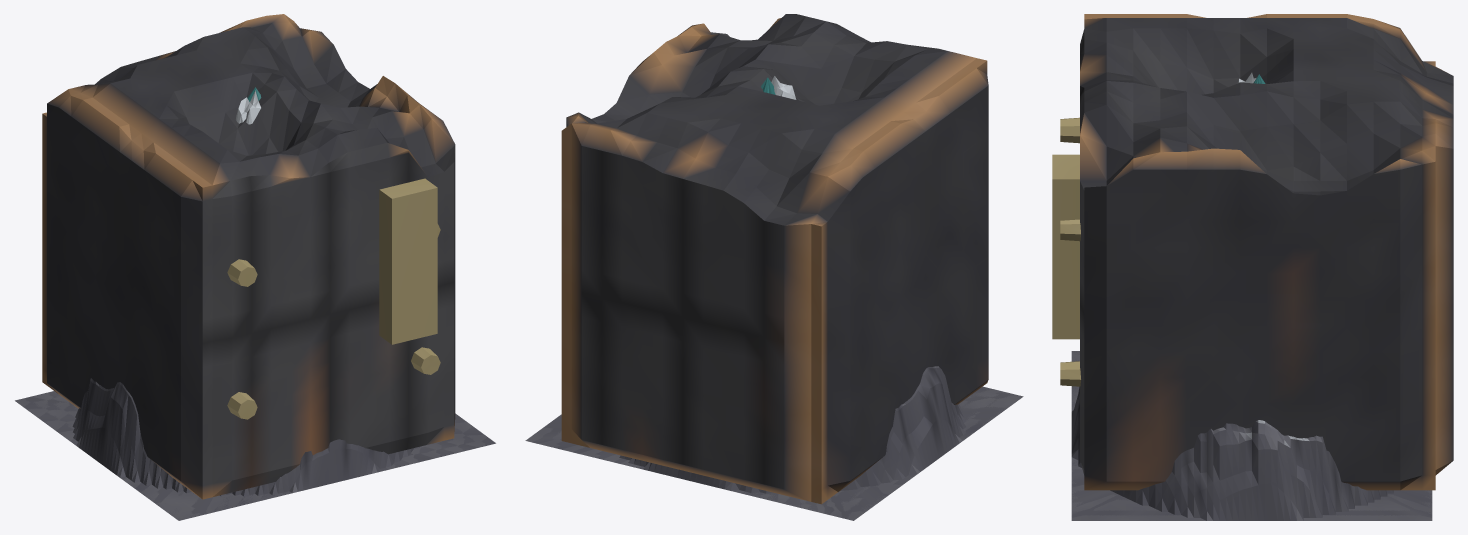
Rendered from openworld-hi.glb.
The picture shows the model from 3 angles, left to right: view 1: azimuth 30°, elevation 25°; view 2: azimuth 150°, elevation 25°; view 3: azimuth 270°, elevation 25°; orthographic projection. The views are drawn at different scales.
Visible parts, largest first — view 1: ow_wall_hi, ow_mountain_hi; view 2: ow_wall_hi, ow_mountain_hi; view 3: ow_wall_hi, ow_mountain_hi.
Part boxes in pixels (x1,y1,x2,y2): ow_wall_hi: (42,14,455,499); ow_mountain_hi: (15,90,495,520); ow_wall_hi: (561,14,988,504); ow_mountain_hi: (525,76,1023,520); ow_wall_hi: (1052,14,1453,490); ow_mountain_hi: (1071,72,1432,520).
Bounding box in the file's own units: 1 × 1 × 1.
